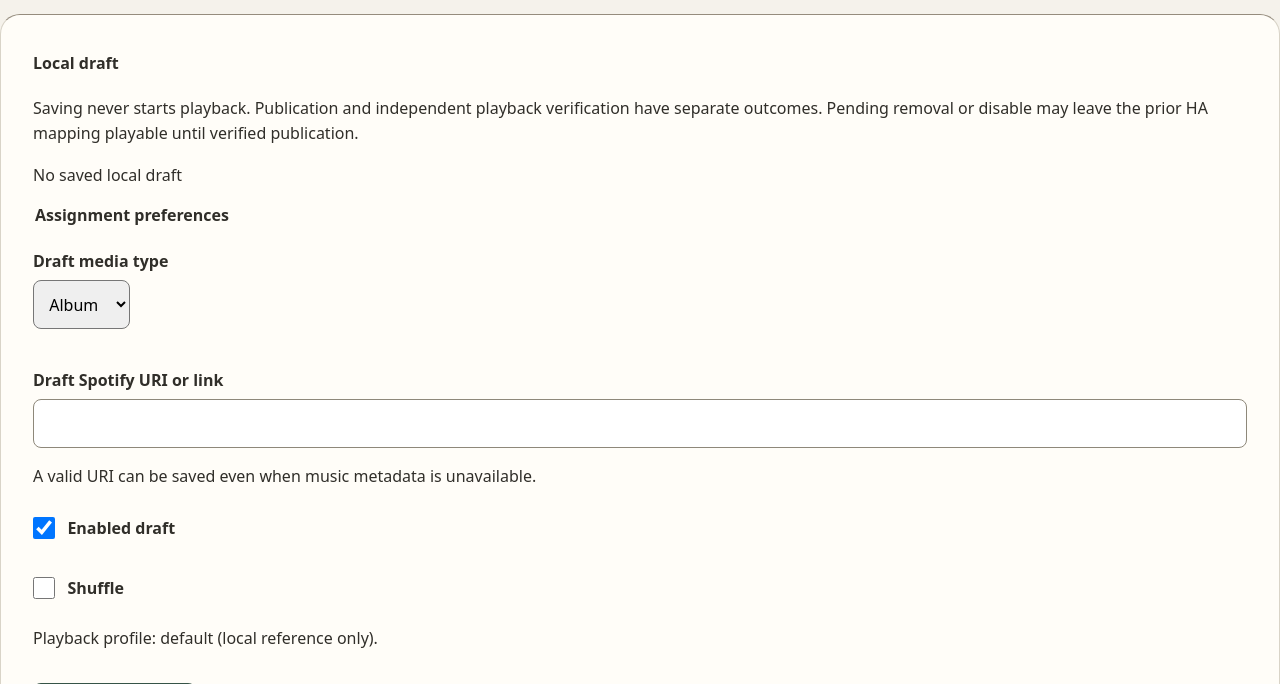
Test: saves explicit local preferences without requiring metadata and requires reload after conflict
In the field labelled "Draft Spotify URI or link": {"x": 640, "y": 424} x1=33 y1=399 x2=1247 y2=448, type "spotify:album:0123456789ABCDEFGHIJKL"
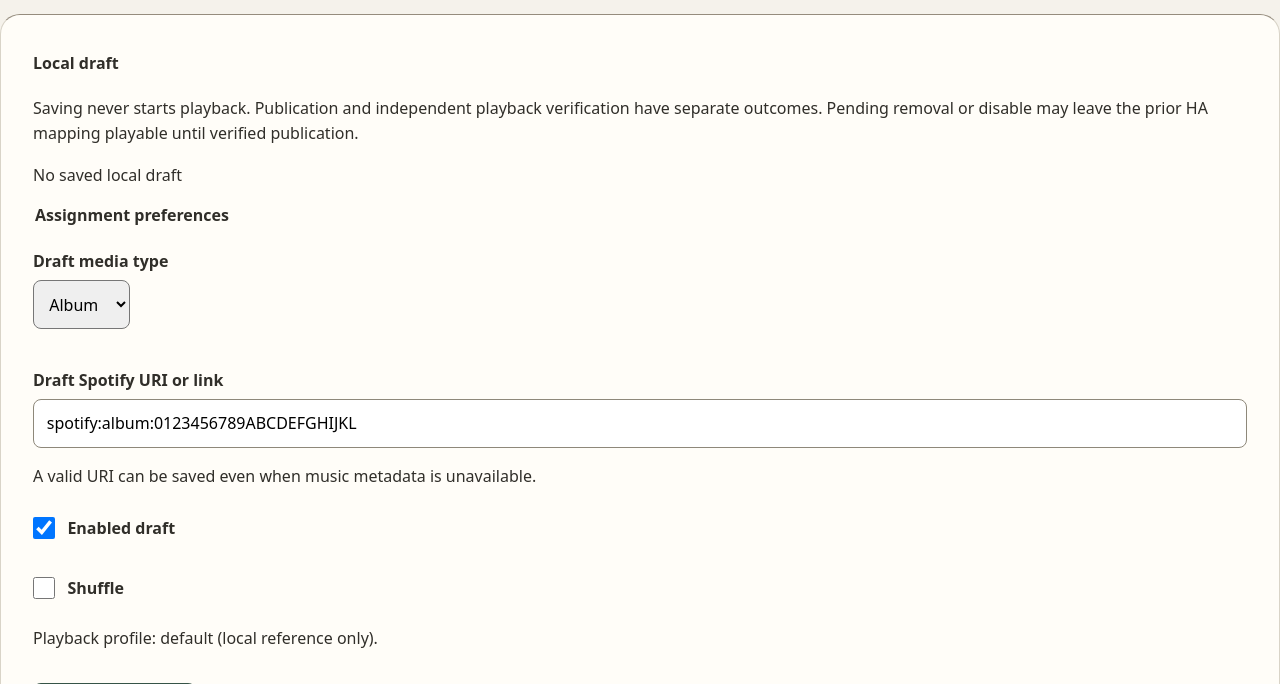
Click the checkbox labelled "Shuffle": {"x": 44, "y": 588} x1=33 y1=566 x2=55 y2=610
(page scrolled)
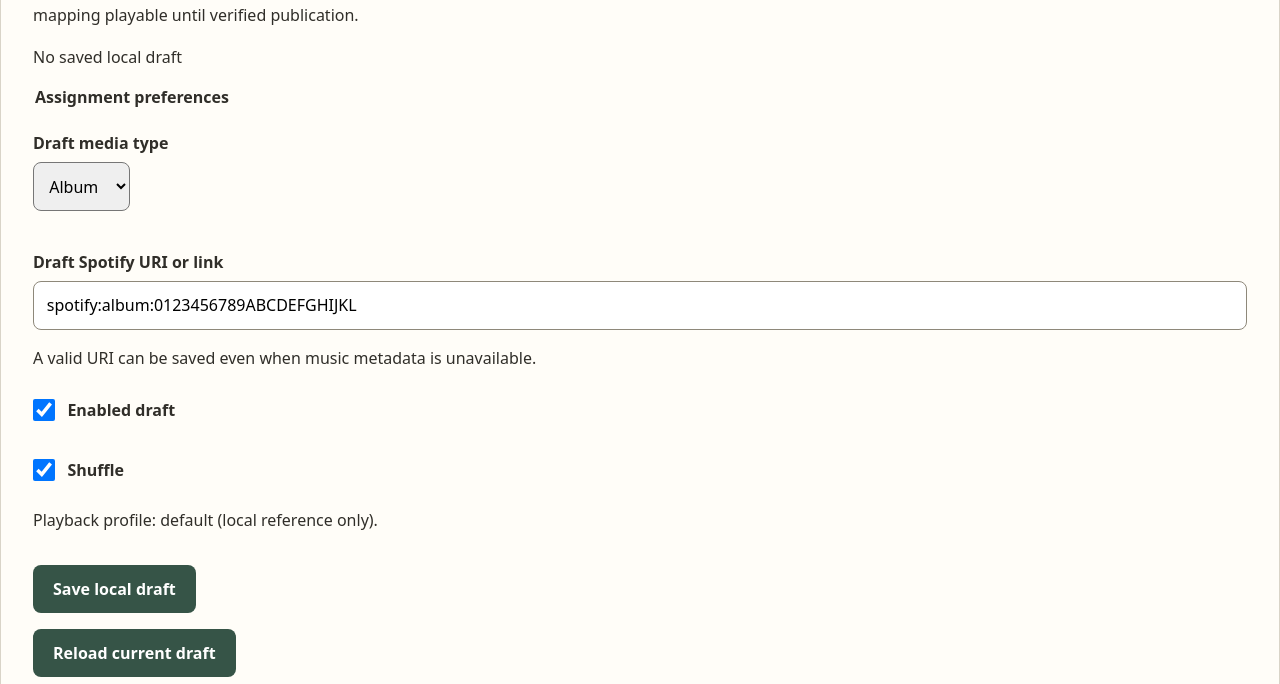
Click the button "Save local draft": {"x": 114, "y": 589} x1=33 y1=566 x2=196 y2=613
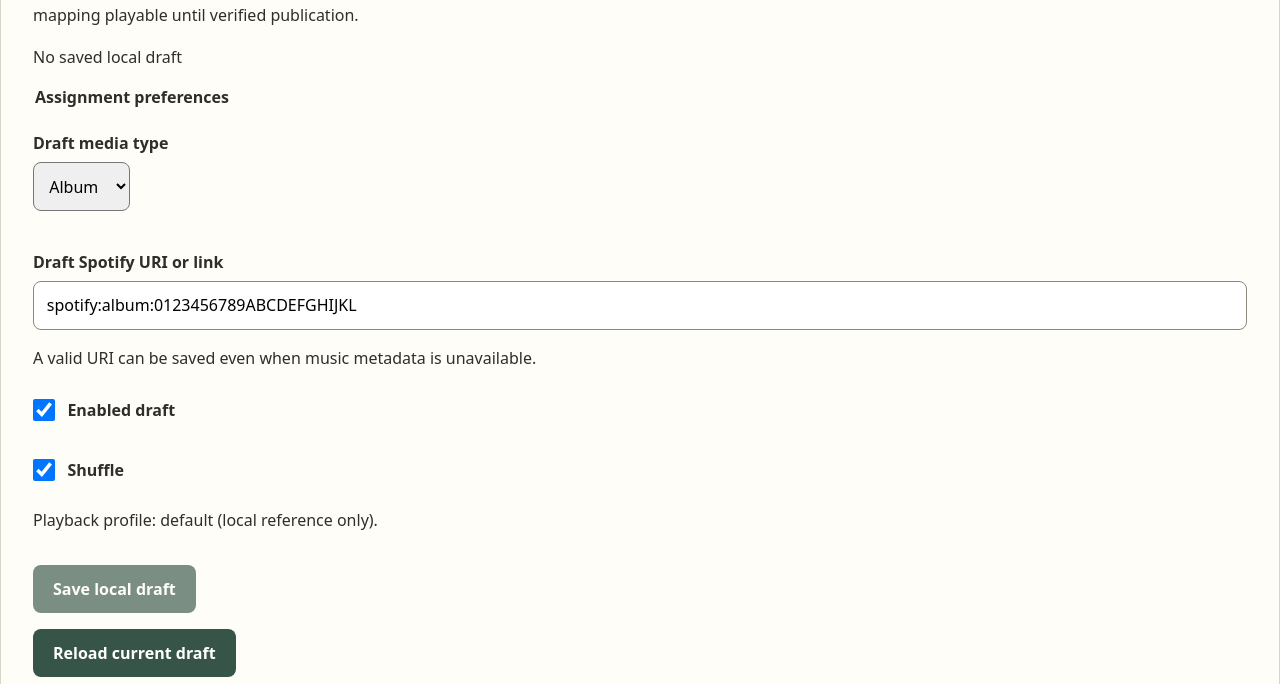
Expected: the button "Save local draft" is disabled, x1=33 y1=566 x2=196 y2=613
